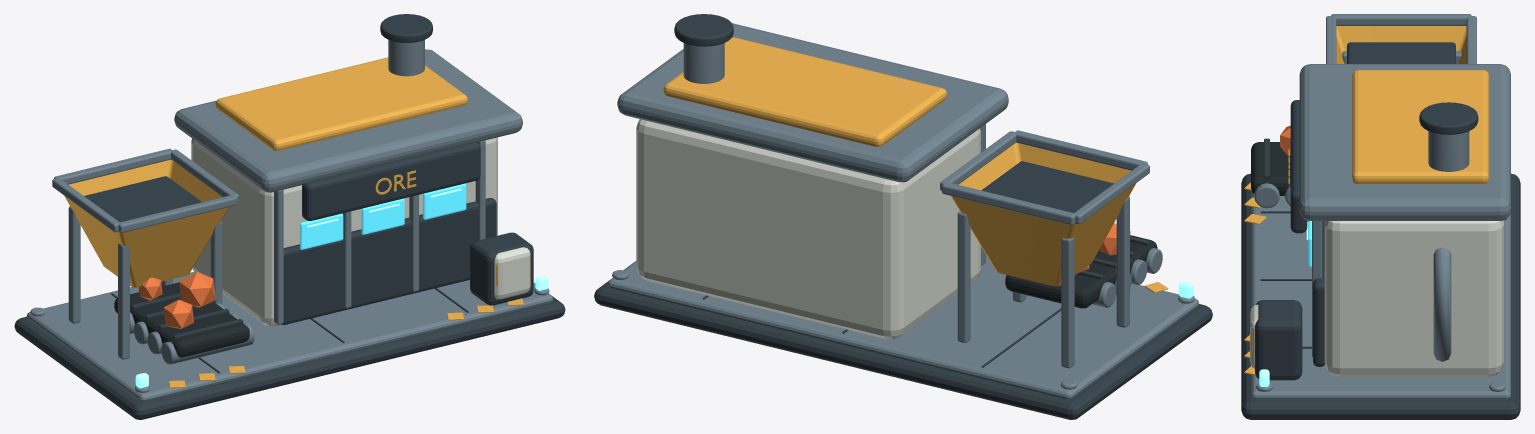
The model's file is exchange-station.glb.
3 views of the same model, side by side, from view 1: azimuth 30°, elevation 25°; view 2: azimuth 150°, elevation 25°; view 3: azimuth 270°, elevation 25° (orthographic). The views are drawn at different scales.
Visible parts, largest first — view 1: Exchange deck, Exchange canopy, Exchange dark apron, Exchange roof ridge, Exchange sorting hall, Exchange foundation, Exchange receiving hopper, Exchange sign frame, Exchange conveyor belt, Exchange hopper interior, Exchange storage bin chassis, Exchange storage bin skin (+19 smaller); view 2: Exchange sorting hall, Exchange deck, Exchange canopy, Exchange roof ridge, Exchange foundation, Exchange receiving hopper, Exchange hopper interior, Exchange conveyor belt, Exchange hopper leg.001, Exchange hopper leg.003, Exchange hopper rim.002, Exchange hopper leg (+5 smaller); view 3: Exchange sorting hall, Exchange canopy, Exchange deck, Exchange roof ridge, Exchange foundation, Exchange storage bin chassis, Exchange receiving hopper, Exchange hopper interior, Exchange exterior duct, Exchange chimney cap, Exchange hopper rim.003, Exchange chimney (+8 smaller).
Boxes of the visible parts, x1,y1,x2,y2 form: Exchange deck: [26, 272, 553, 402]; Exchange canopy: [174, 49, 522, 192]; Exchange dark apron: [281, 198, 496, 324]; Exchange roof ridge: [215, 57, 467, 150]; Exchange sorting hall: [191, 137, 497, 326]; Exchange foundation: [14, 283, 565, 419]; Exchange receiving hopper: [64, 159, 229, 287]; Exchange sign frame: [302, 141, 480, 220]; Exchange conveyor belt: [114, 282, 249, 357]; Exchange hopper interior: [84, 176, 201, 222]; Exchange storage bin chassis: [470, 232, 533, 305]; Exchange storage bin skin: [494, 247, 530, 299]; Exchange sorting hall: [636, 119, 980, 339]; Exchange deck: [608, 255, 1198, 399]; Exchange canopy: [617, 23, 1008, 182]; Exchange roof ridge: [663, 37, 946, 147]; Exchange foundation: [594, 261, 1212, 419]; Exchange receiving hopper: [951, 142, 1135, 286]; Exchange hopper interior: [981, 161, 1113, 212]; Exchange conveyor belt: [1005, 235, 1157, 308]; Exchange hopper leg.001: [1061, 237, 1074, 368]; Exchange hopper leg.003: [957, 211, 970, 342]; Exchange hopper rim.002: [942, 182, 1075, 225]; Exchange hopper leg: [1116, 196, 1129, 327]; Exchange sorting hall: [1324, 220, 1503, 376]; Exchange canopy: [1299, 64, 1510, 220]; Exchange deck: [1251, 190, 1510, 399]; Exchange roof ridge: [1352, 70, 1489, 183]; Exchange foundation: [1241, 173, 1520, 419]; Exchange storage bin chassis: [1255, 300, 1302, 380]; Exchange receiving hopper: [1336, 26, 1466, 63]; Exchange hopper interior: [1347, 42, 1455, 63]; Exchange exterior duct: [1433, 247, 1451, 361]; Exchange chimney cap: [1419, 102, 1478, 134]; Exchange hopper rim.003: [1331, 14, 1471, 25]; Exchange chimney: [1428, 131, 1469, 171].
Bounding box in the file's own units: 4.35 × 2.34 × 2.18.
